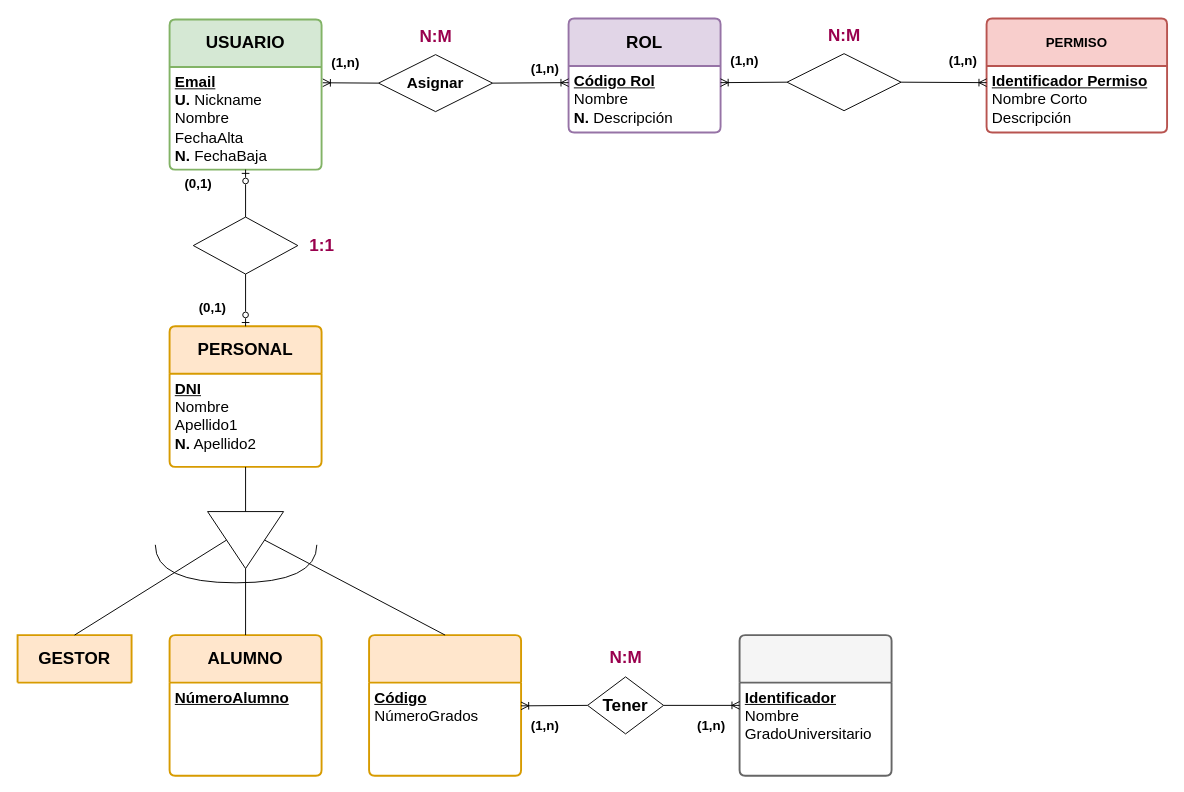
Some shapes in this 1184 by 792 pixel diagram are drawn without their labels. Each missing label, with the box of its shape:
Asociar: (192, 216, 298, 274)
FORMACION: (738, 634, 892, 776)
Ofrecer: (786, 53, 901, 111)
PROFESOR: (368, 634, 522, 776)
